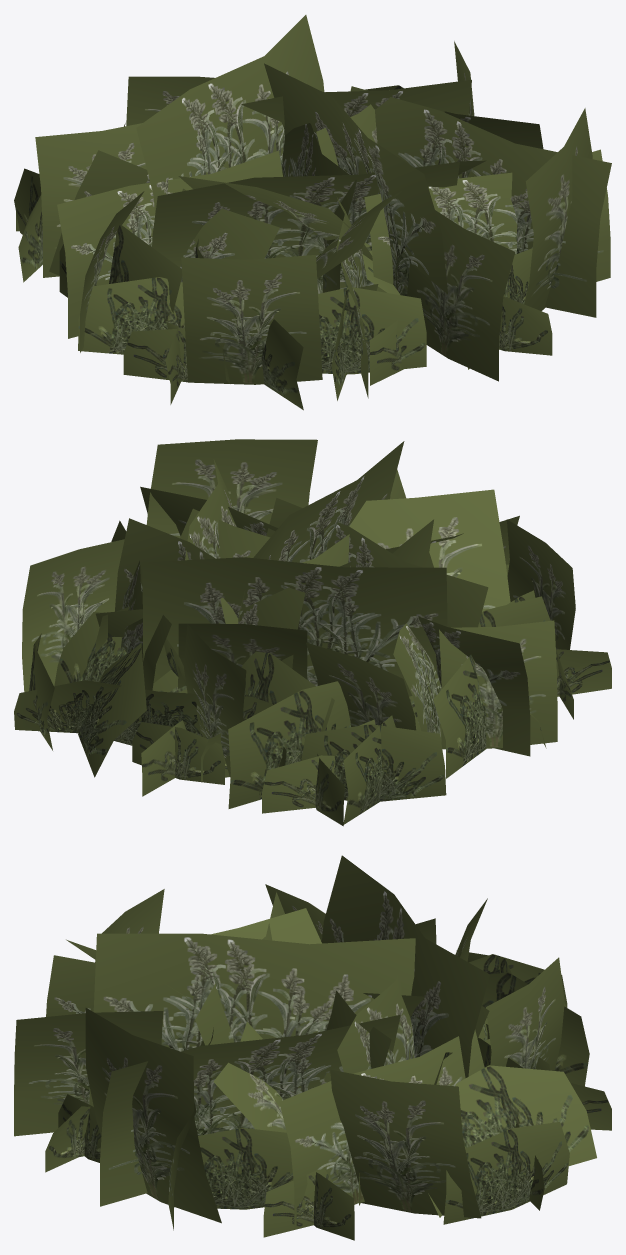
File: SM_Grass_big_clump_C.fbx
3 renders of one model, top to bottom at view 1: azimuth 30°, elevation 25°; view 2: azimuth 150°, elevation 25°; view 3: azimuth 270°, elevation 25°, orthographic. The views are drawn at different scales.
Visible parts, largest first — view 1: SM_Grass_big_clump_C; view 2: SM_Grass_big_clump_C; view 3: SM_Grass_big_clump_C.
Boxes of the visible parts, x1=… form: SM_Grass_big_clump_C: x1=14, y1=15, x2=611, y2=410; SM_Grass_big_clump_C: x1=14, y1=439, x2=611, y2=826; SM_Grass_big_clump_C: x1=14, y1=855, x2=611, y2=1240.
Bounding box in the file's own units: 201 × 76.62 × 210.
